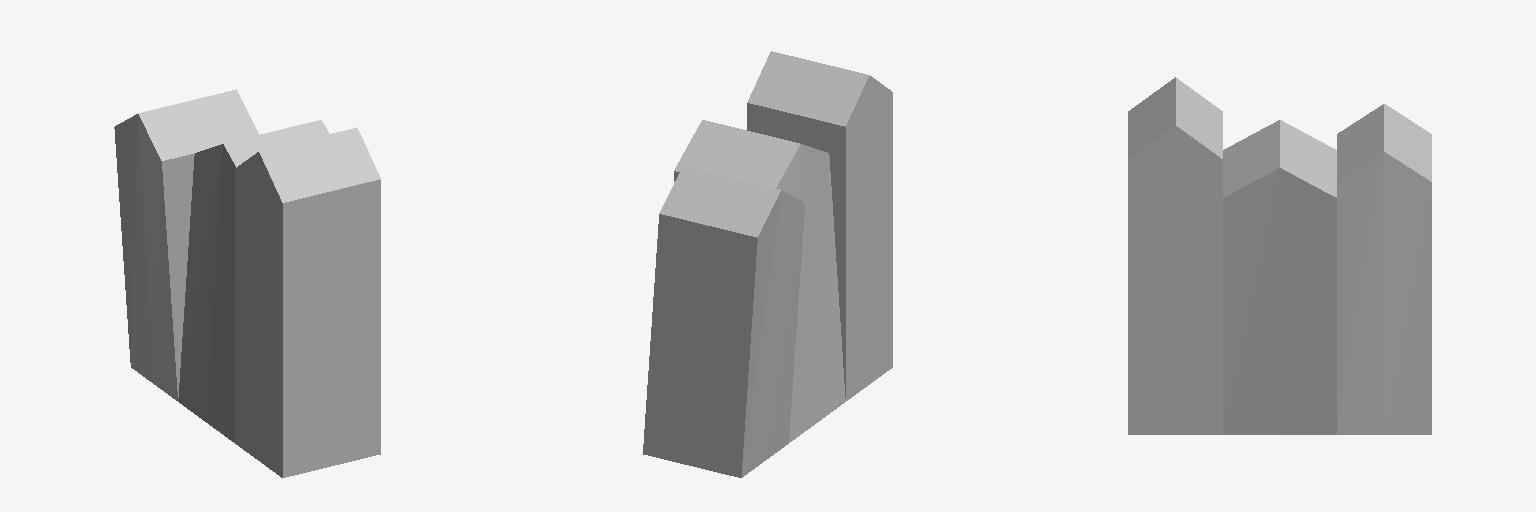
Rendered from stockade.obj.
3 views of the same model, side by side, from view 1: azimuth 30°, elevation 25°; view 2: azimuth 150°, elevation 25°; view 3: azimuth 270°, elevation 25° (orthographic).
Visible parts, largest first — view 1: cuboid; view 2: cuboid; view 3: cuboid.
Part boxes in pixels (left/top/right/bottom): cuboid: left=114, top=89, right=380, bottom=477; cuboid: left=643, top=51, right=892, bottom=477; cuboid: left=1128, top=77, right=1431, bottom=434.
Size of the model in its own units: 0.5 by 1.12 by 1.